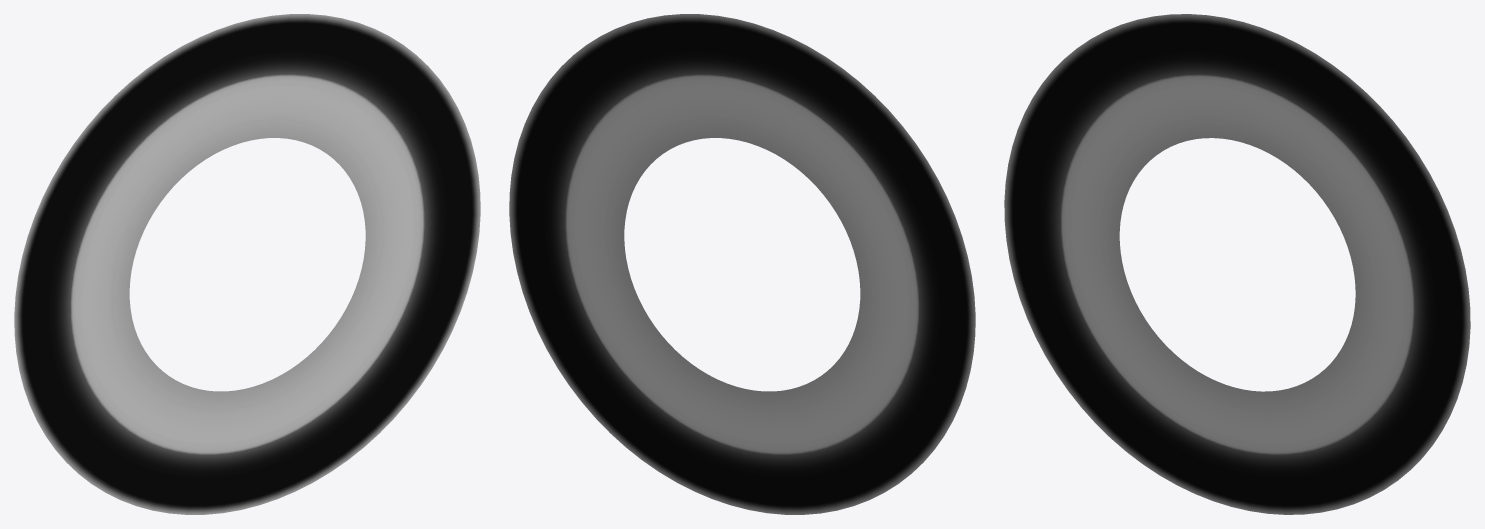
File: pref_fxui_cd_finish_flicker.fbx
3 renders of one model, left to right at view 1: azimuth 30°, elevation 25°; view 2: azimuth 150°, elevation 25°; view 3: azimuth 330°, elevation 25°, orthographic.
Parts seen in each view (by area): view 1: ring1; view 2: ring1; view 3: ring1.
Part boxes in pixels (x1=…): ring1: x1=14, y1=14, x2=480, y2=514; ring1: x1=509, y1=14, x2=975, y2=514; ring1: x1=1004, y1=14, x2=1470, y2=514.
Size of the model in its own units: 142 by 142 by 6.2e-05.
